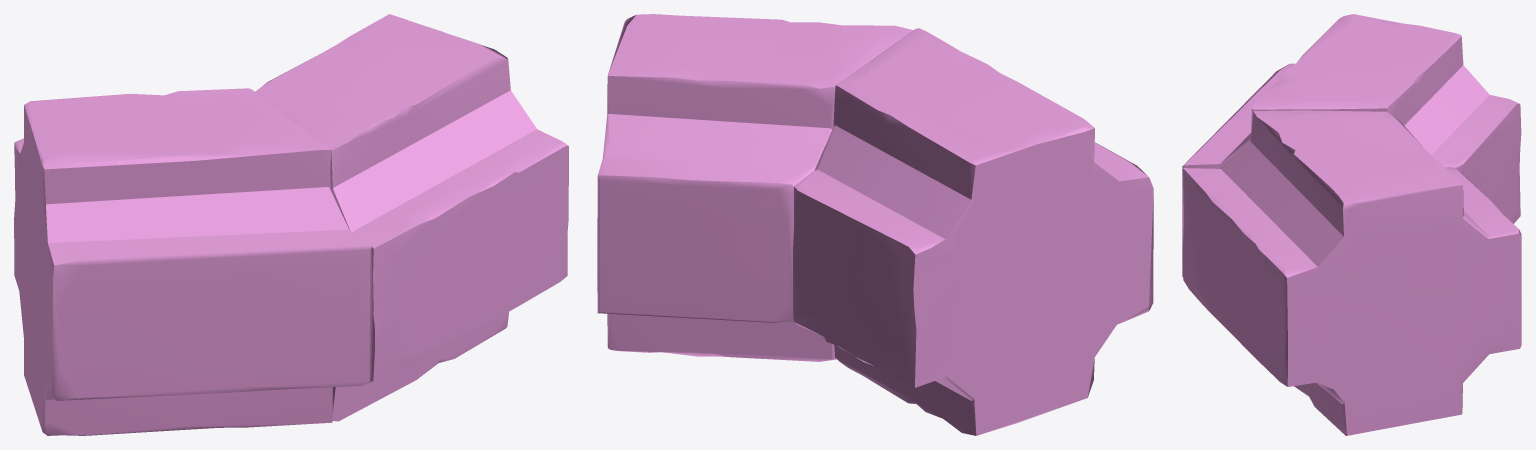
The model's file is stone_element_07c.fbx.
3 renders of one model, left to right at view 1: azimuth 30°, elevation 25°; view 2: azimuth 150°, elevation 25°; view 3: azimuth 270°, elevation 25°, orthographic. The views are drawn at different scales.
Parts seen in each view (by area): view 1: stone_element_07c_LOD0; view 2: stone_element_07c_LOD0; view 3: stone_element_07c_LOD0.
Part boxes in pixels (x1=…): stone_element_07c_LOD0: x1=14, y1=14, x2=568, y2=435; stone_element_07c_LOD0: x1=597, y1=14, x2=1153, y2=435; stone_element_07c_LOD0: x1=1182, y1=14, x2=1521, y2=435.
Size of what is drawn, in the model's own units: 225 by 116 by 152.
